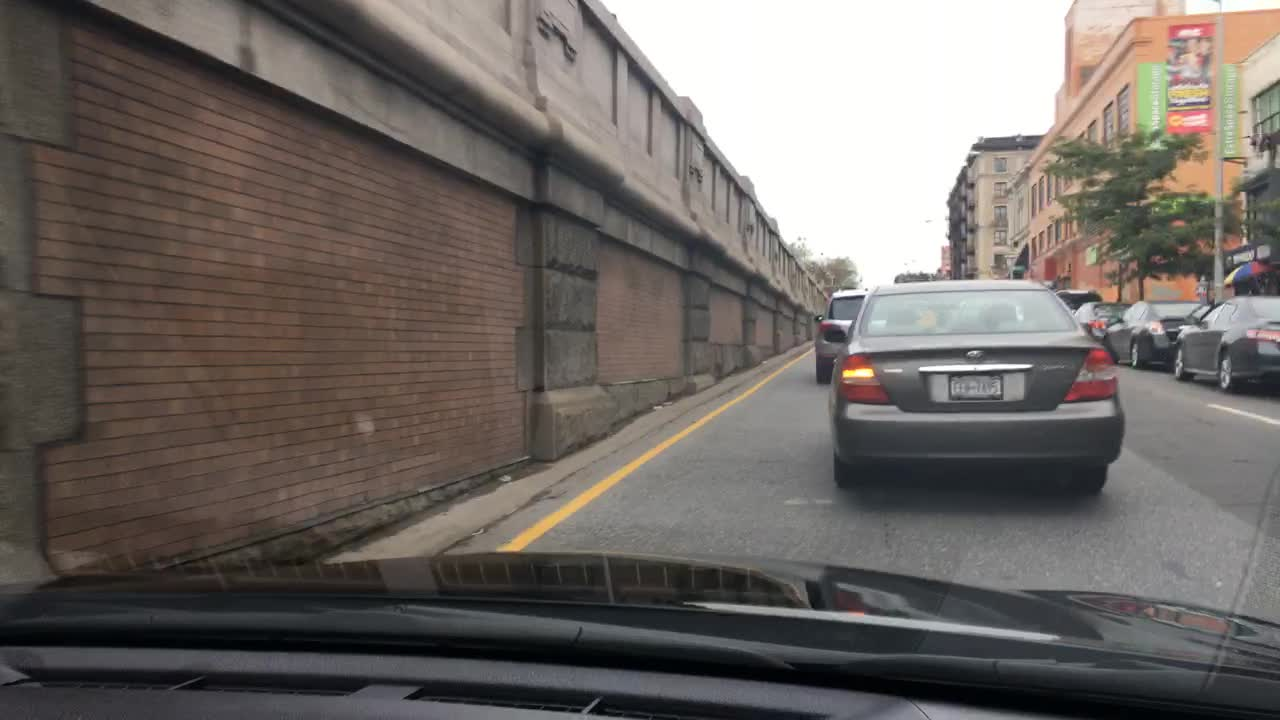car: (828, 275, 1122, 490), (1172, 291, 1279, 388), (808, 288, 886, 385), (1103, 297, 1204, 370), (1071, 300, 1131, 340), (1055, 289, 1102, 315)
